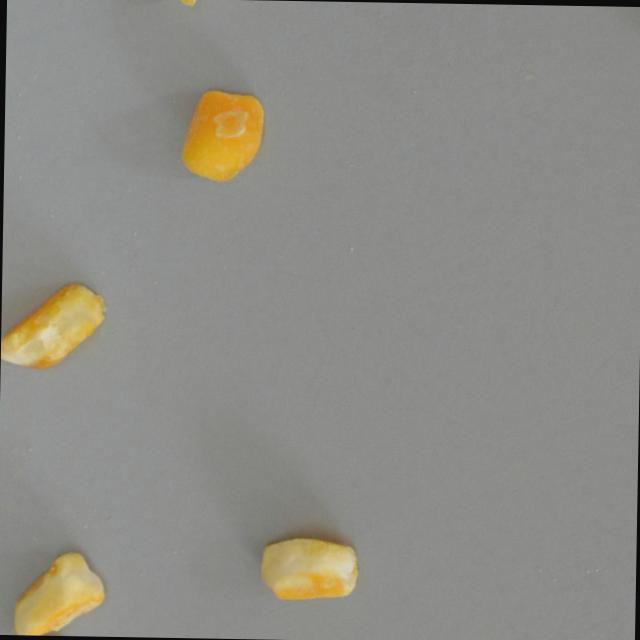estandar: (256, 534, 357, 602)
pelicula: (0, 280, 105, 372), (8, 545, 105, 636), (179, 84, 264, 184)
